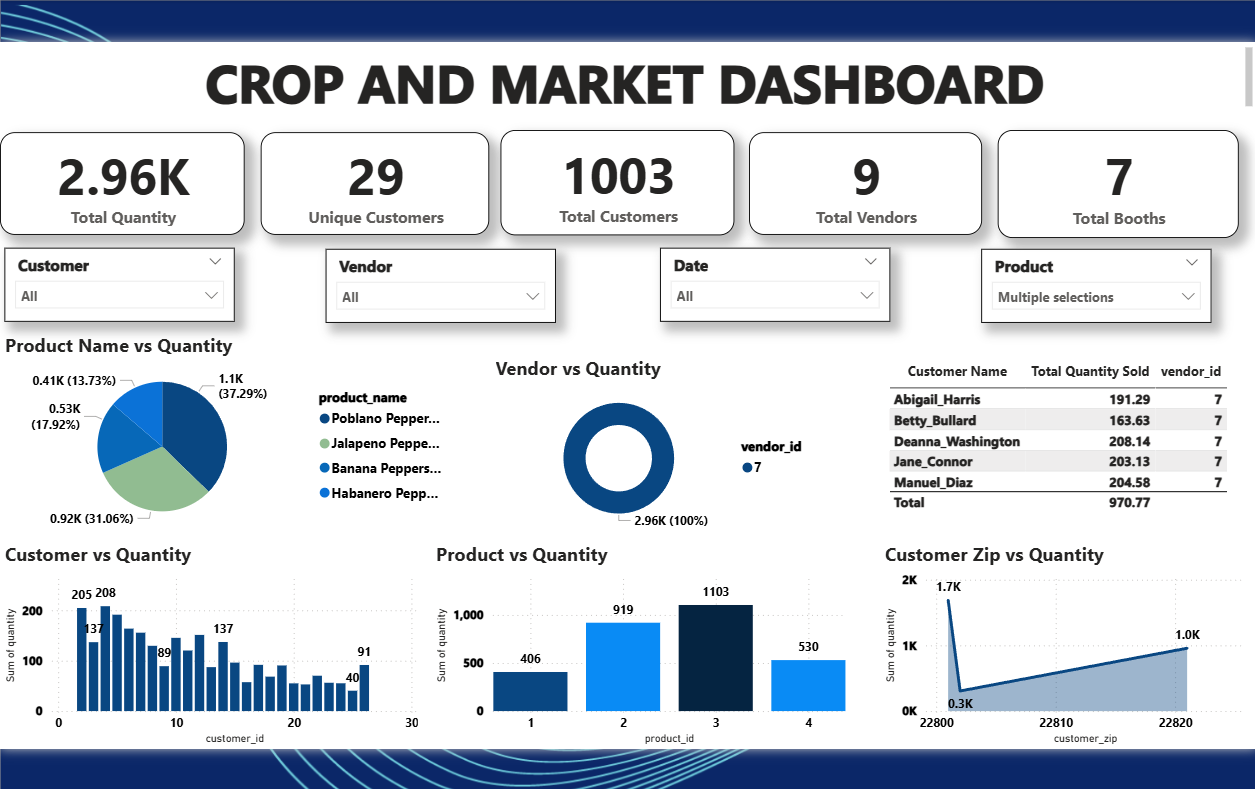

The page's visual inventory and layout, read from the dashboard file:
{"tool":"powerbi","page":{"name":"Quantity Wise Analysis","canvas":[1280,720],"ordinal":0},"visuals":[{"type":"columnChart","title":"Customer vs Quantity","fields":{"Category":["customer_purchases.customer_id"],"Y":["customer_purchases.quantity"]},"box":[0,508.7,430.5,211.1],"z":0},{"type":"clusteredColumnChart","title":"Product vs Quantity","fields":{"Y":["customer_purchases.quantity"],"Category":["product.product_id"]},"box":[438.7,508.7,426.4,211.1],"z":1000},{"type":"pieChart","title":"Product Name vs Quantity","fields":{"Y":["customer_purchases.quantity"],"Category":["product.product_name"]},"box":[0,296.1,467.5,207],"z":2000},{"type":"donutChart","title":"Vendor vs Quantity","fields":{"Category":["customer_purchases.vendor_id"],"Y":["customer_purchases.quantity"]},"box":[499.1,319.5,344.1,183.7],"z":3000},{"type":"textbox","box":[0,0,1280.6,75.4],"z":4000},{"type":"card","fields":{"Values":["customer_purchases.quantity"]},"box":[0,91.9,249.5,104.2],"z":7000},{"type":"card","fields":{"Values":["customer_purchases.customer_id"]},"box":[266,91.9,233.1,104.2],"z":8000},{"type":"card","fields":{"Values":["customer_purchases.customer_id"]},"box":[510,89.1,238.6,106.9],"z":9000},{"type":"card","fields":{"Values":["vendor.vendor_id"]},"box":[762.3,91.9,237.2,104.2],"z":10000},{"type":"card","fields":{"Values":["vendor_booth_assignments.booth_number"]},"box":[1015.9,89.1,245.4,109.7],"z":11000},{"type":"tableEx","fields":{"Values":["customer.Customer_FUll_Name","customer_purchases.quantity","customer_purchases.vendor_id"]},"box":[899.4,319.5,377,170],"z":12000},{"type":"areaChart","title":"Customer Zip vs Quantity","fields":{"Category":["customer.customer_zip"],"Y":["customer_purchases.quantity"]},"box":[896.7,508.7,383.9,211.1],"z":13000},{"type":"slicer","fields":{"Values":["customer.customer_id"]},"box":[4.1,209.8,234.4,75.4],"z":14000},{"type":"slicer","fields":{"Values":["customer_purchases.vendor_id"]},"box":[331.8,211.1,234.4,75.4],"z":15000},{"type":"slicer","fields":{"Values":["market_date_info.market_date"]},"box":[671.8,209.8,234.4,75.4],"z":16000},{"type":"slicer","fields":{"Values":["customer_purchases.product_id"]},"box":[999.5,211.1,234.4,75.4],"z":17000}]}

Visuals, with their boxes on the page's 1280x720 design canvas (x1, y1, x2, y2). These are canvas units, not pixel positions in the 1255x789 screenshot, which may show the page scaled, cropped or inside an application window:
"Customer vs Quantity" columnChart: pyautogui.locateOnScreen(0, 509, 430, 720)
"Product vs Quantity" clusteredColumnChart: pyautogui.locateOnScreen(439, 509, 865, 720)
"Product Name vs Quantity" pieChart: pyautogui.locateOnScreen(0, 296, 468, 503)
"Vendor vs Quantity" donutChart: pyautogui.locateOnScreen(499, 320, 843, 503)
textbox: pyautogui.locateOnScreen(0, 0, 1281, 75)
card - customer_purchases.quantity: pyautogui.locateOnScreen(0, 92, 250, 196)
card - customer_purchases.customer_id: pyautogui.locateOnScreen(266, 92, 499, 196)
card - customer_purchases.customer_id: pyautogui.locateOnScreen(510, 89, 749, 196)
card - vendor.vendor_id: pyautogui.locateOnScreen(762, 92, 1000, 196)
card - vendor_booth_assignments.booth_number: pyautogui.locateOnScreen(1016, 89, 1261, 199)
tableEx - customer.Customer_FUll_Name x customer_purchases.quantity: pyautogui.locateOnScreen(899, 320, 1276, 490)
"Customer Zip vs Quantity" areaChart: pyautogui.locateOnScreen(897, 509, 1281, 720)
slicer - customer.customer_id: pyautogui.locateOnScreen(4, 210, 238, 285)
slicer - customer_purchases.vendor_id: pyautogui.locateOnScreen(332, 211, 566, 286)
slicer - market_date_info.market_date: pyautogui.locateOnScreen(672, 210, 906, 285)
slicer - customer_purchases.product_id: pyautogui.locateOnScreen(1000, 211, 1234, 286)
